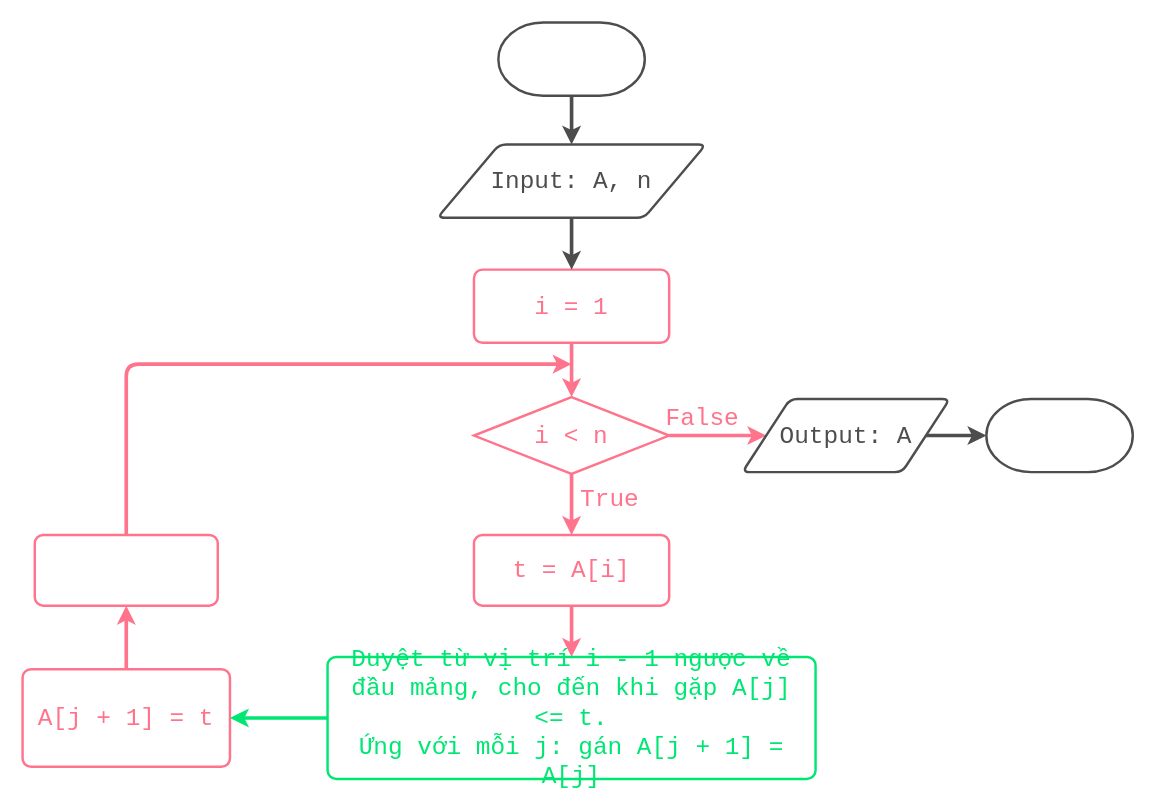
Some shapes in this 1154 by 811 pixel diagram are drawn without their labels. Here are the shapes that lost their labels. From the top down, the box of each, then its label:
(497, 21, 645, 96): Bắt đầu
(985, 397, 1133, 473): Kết thúc
(33, 533, 218, 606): i = i + 1
